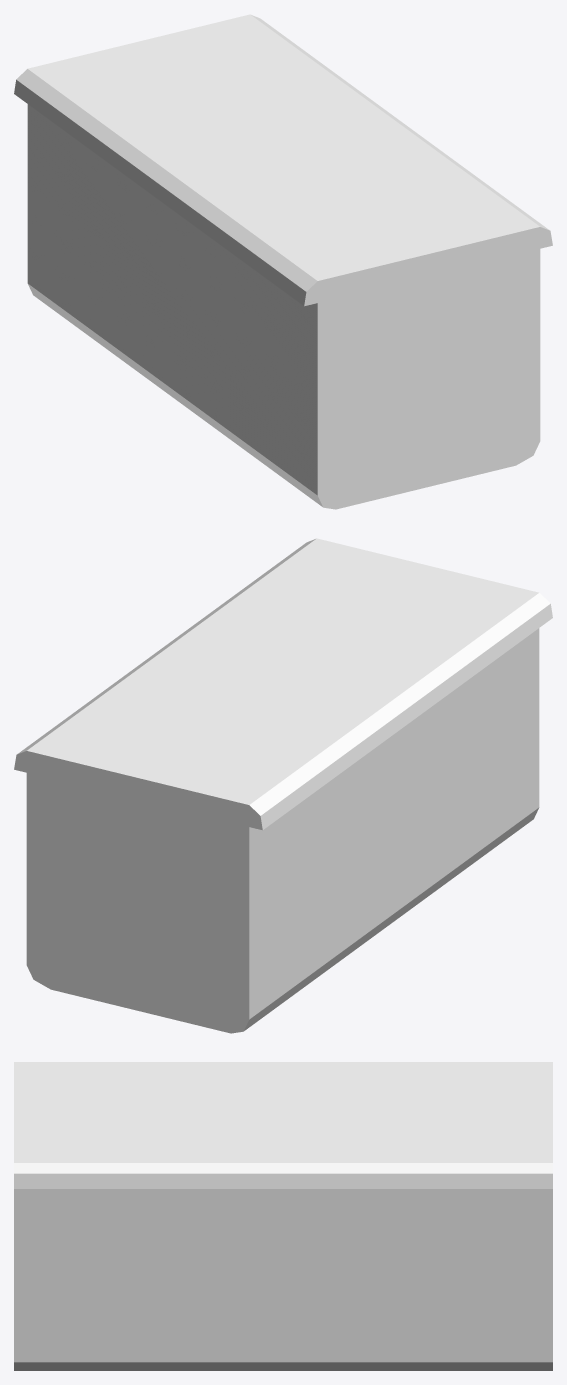
File: Bread.fbx
3 renders of one model, top to bottom at view 1: azimuth 30°, elevation 25°; view 2: azimuth 150°, elevation 25°; view 3: azimuth 270°, elevation 25°, orthographic. The views are drawn at different scales.
Visible parts, largest first — view 1: Bread; view 2: Bread; view 3: Bread.
Part boxes in pixels (x1,y1,x2,y2): Bread: (14,14,552,509); Bread: (14,538,552,1033); Bread: (14,1062,552,1370).
Bounding box in the file's own units: 224 × 200 × 452.
